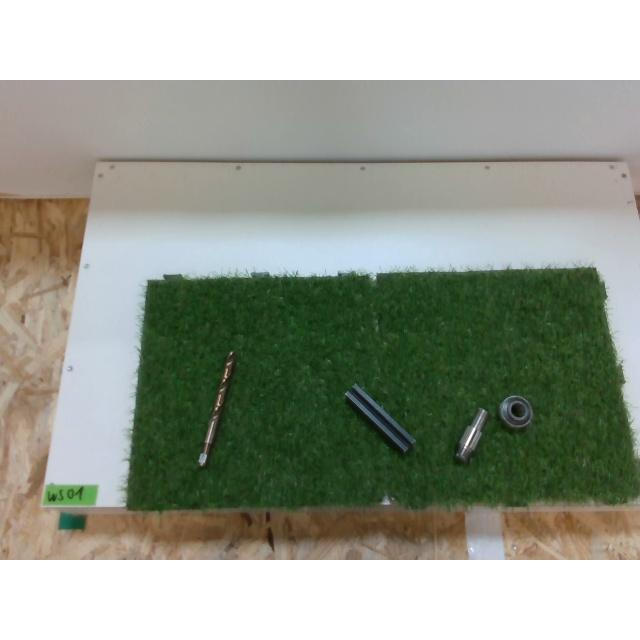Axis2: (454, 408, 486, 464)
Bearing2: (500, 396, 532, 428)
Drill: (198, 350, 234, 466)
F20_20_B: (344, 384, 416, 452)
